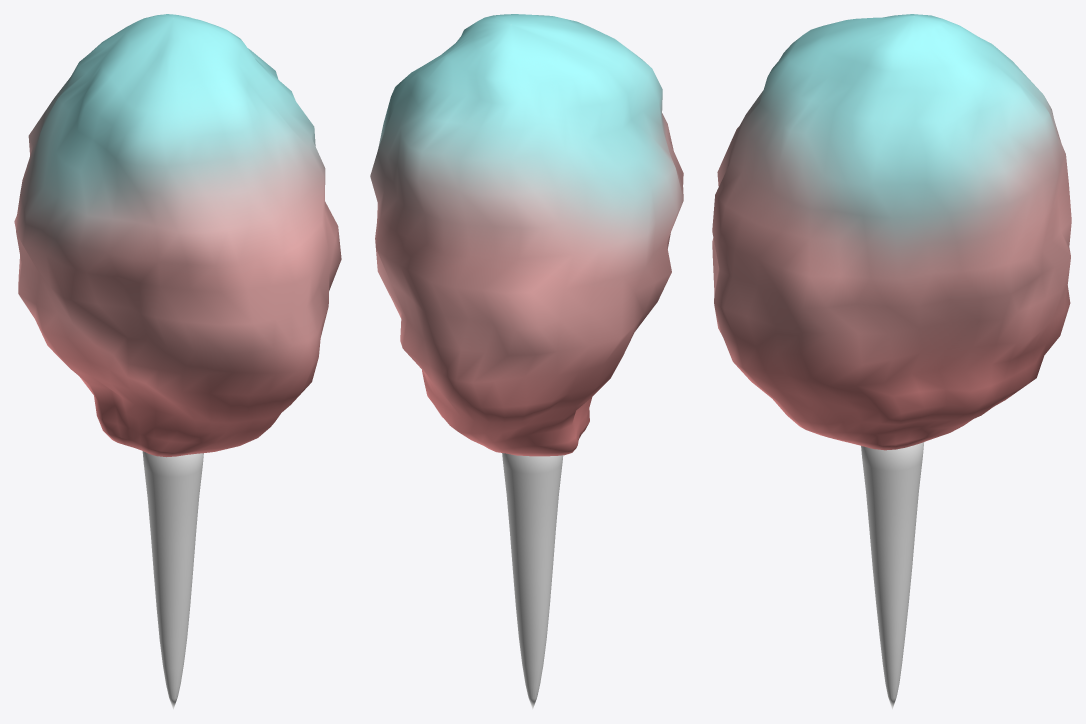
File: CottonCandy.fbx
3 renders of one model, left to right at view 1: azimuth 30°, elevation 25°; view 2: azimuth 150°, elevation 25°; view 3: azimuth 270°, elevation 25°, orthographic. The views are drawn at different scales.
Parts seen in each view (by area): view 1: CottonCandy, CottonCandyCone; view 2: CottonCandy, CottonCandyCone; view 3: CottonCandy, CottonCandyCone.
Part boxes in pixels (box(x1,y1,x2,y2)): CottonCandy: box(14, 14, 341, 457); CottonCandyCone: box(142, 451, 203, 709); CottonCandy: box(370, 14, 683, 456); CottonCandyCone: box(502, 453, 563, 709); CottonCandy: box(712, 14, 1071, 450); CottonCandyCone: box(861, 442, 924, 709).
Bounding box in the file's own units: 15.93 × 40.06 × 18.68.
